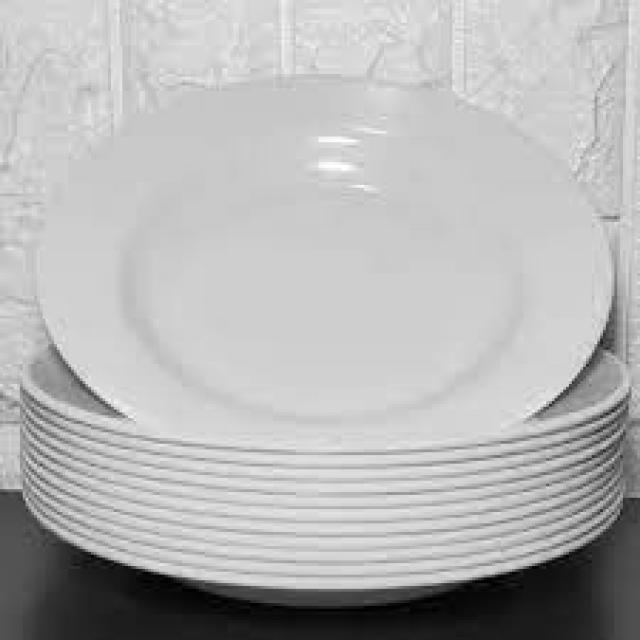dish: (22, 59, 640, 607)
